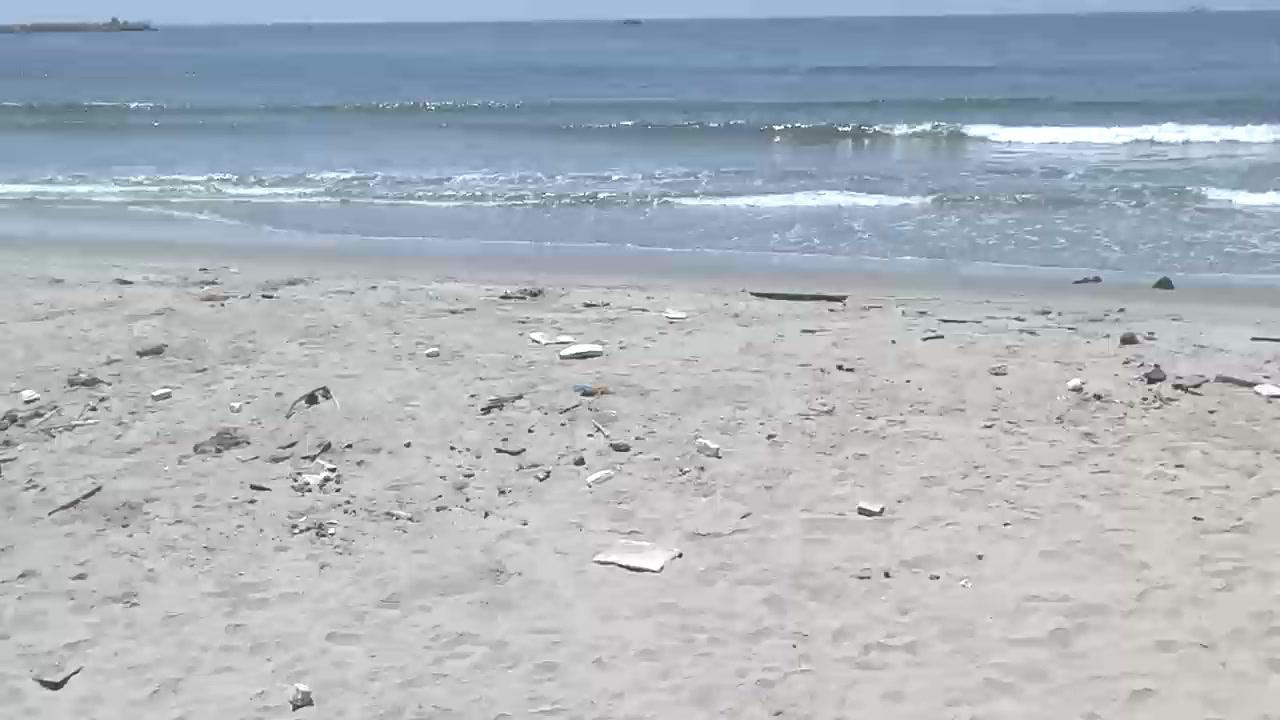large collection of objects: (1254, 382, 1278, 397)
obj: (592, 540, 682, 573), (32, 651, 84, 686), (287, 384, 331, 420), (286, 683, 318, 711), (1214, 374, 1264, 388), (586, 469, 616, 491), (560, 344, 604, 358), (856, 503, 886, 520), (696, 437, 720, 457)
sand/background: (1, 0, 1279, 312)
